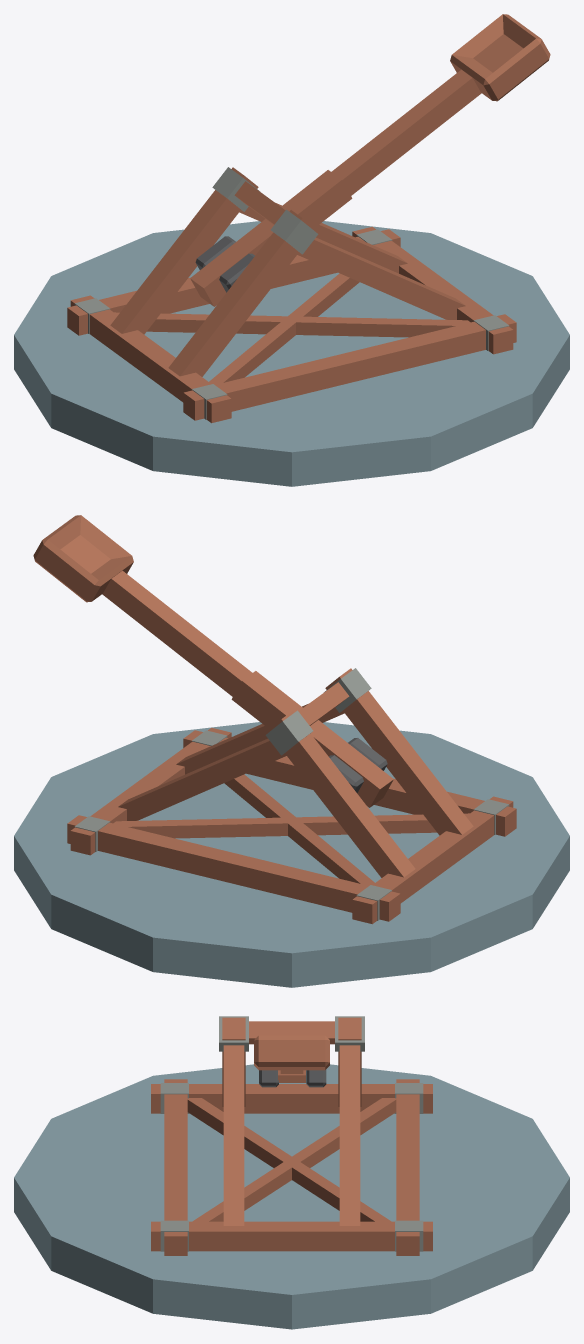
Rendered from catapult.fbx.
3 renders of one model, top to bottom at view 1: azimuth 30°, elevation 25°; view 2: azimuth 150°, elevation 25°; view 3: azimuth 270°, elevation 25°, orthographic.
Parts seen in each view (by area): view 1: pCylinder1, pCube1, pCube8, pCube7, arm2, arm1, pCube6, arm3, pCube3, pCube12, pCube5, pCube2 (+5 smaller); view 2: pCylinder1, pCube2, pCube7, pCube8, arm2, arm1, pCube5, arm3, pCube3, pCube13, pCube6, pCube1 (+5 smaller); view 3: pCylinder1, pCube4, pCube3, pCube12, pCube13, pCube2, pCube1, pCube5, pCube6, arm1, pCube9, pCube7 (+7 smaller).
Boxes of the visible parts, x1,y1,x2,y2 form: pCylinder1: (14, 221, 569, 486); pCube1: (183, 314, 516, 420); pCube8: (168, 210, 316, 376); pCube7: (110, 167, 258, 334); arm2: (331, 69, 481, 195); arm1: (450, 14, 550, 101); pCube6: (114, 312, 470, 337); arm3: (190, 170, 352, 306); pCube3: (70, 295, 231, 423); pCube12: (297, 237, 465, 319); pCube5: (209, 273, 359, 384); pCube2: (67, 229, 400, 335); pCylinder1: (14, 722, 569, 987); pCube2: (67, 815, 400, 921); pCube7: (267, 711, 415, 877); pCube8: (325, 668, 473, 835); arm2: (102, 570, 252, 696); arm1: (33, 515, 133, 602); pCube5: (113, 813, 469, 838); arm3: (231, 671, 393, 807); pCube3: (352, 796, 513, 924); pCube13: (118, 738, 286, 820); pCube6: (224, 774, 374, 885); pCube1: (183, 730, 516, 836); pCylinder1: (14, 1064, 569, 1329); pCube4: (151, 1221, 432, 1251); pCube3: (151, 1084, 432, 1113); pCube12: (223, 1045, 244, 1225); pCube13: (339, 1045, 360, 1225); pCube2: (396, 1079, 419, 1255); pCube1: (164, 1079, 187, 1255); pCube5: (187, 1098, 391, 1221); pCube6: (192, 1098, 396, 1221); arm1: (254, 1035, 329, 1070); pCube9: (249, 1021, 334, 1044); pCube7: (338, 1017, 361, 1106).
Bounding box in the file's own units: 12 × 6.83 × 11.97.
Materials: 1 (1 with a texture image).
